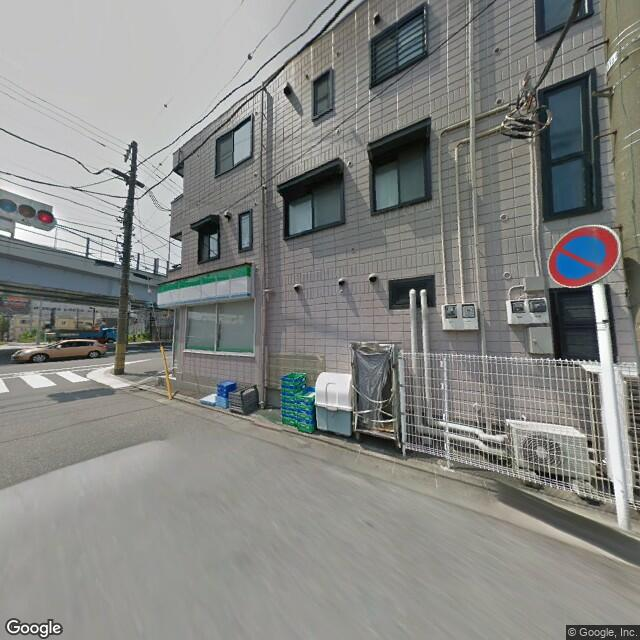family_mart: (154, 261, 256, 310)
